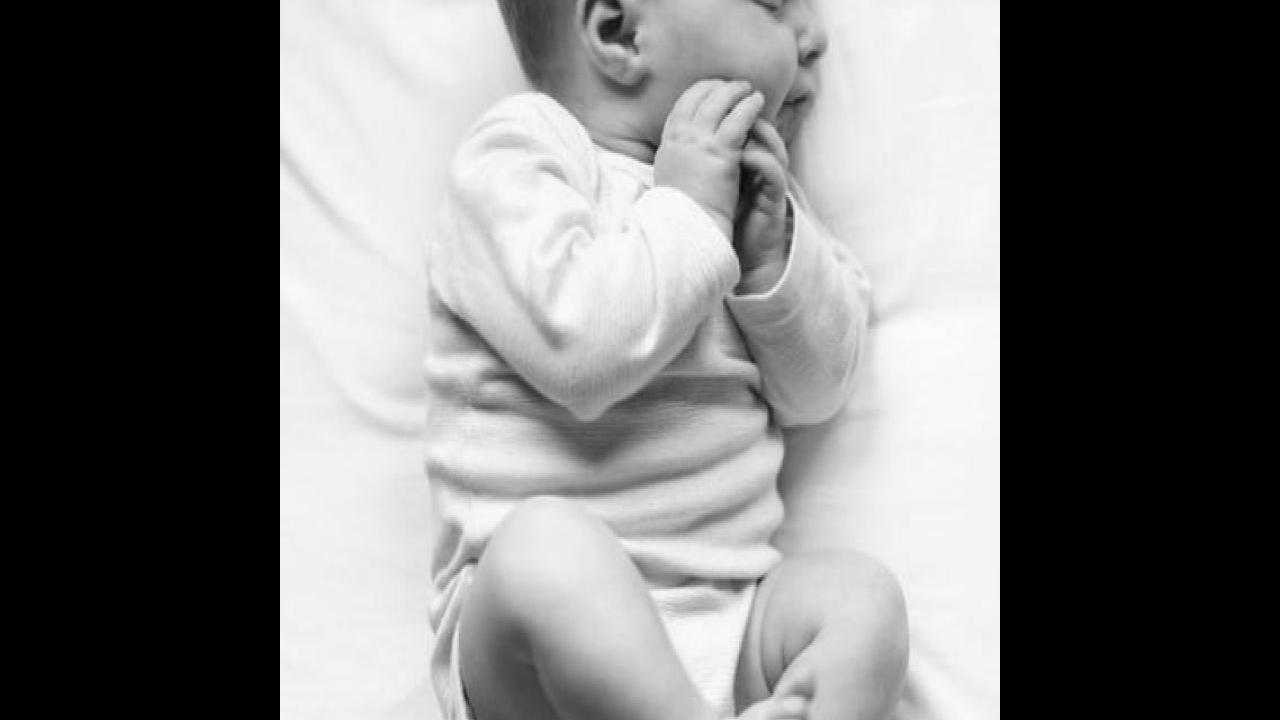hand: (654, 77, 766, 212), (735, 115, 789, 264)
